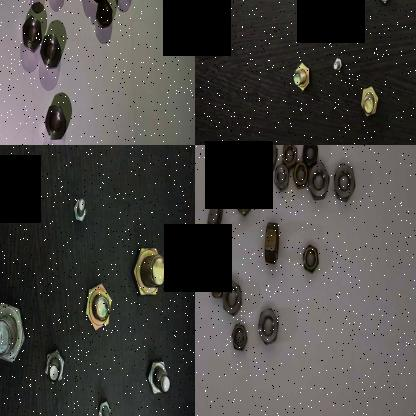Bolts: (132, 233, 168, 310), (81, 274, 112, 335), (0, 298, 27, 367), (41, 342, 67, 394), (144, 354, 173, 400), (290, 53, 312, 98), (68, 188, 91, 228), (358, 83, 378, 121), (92, 396, 114, 416), (330, 52, 343, 75), (375, 0, 395, 8)
NUTS: (331, 159, 357, 206), (42, 102, 68, 144), (254, 302, 278, 347), (305, 160, 331, 200), (218, 276, 242, 318), (262, 216, 280, 271), (203, 195, 223, 242), (19, 10, 38, 57), (39, 32, 61, 70), (252, 145, 280, 173), (93, 0, 117, 30), (233, 185, 252, 219), (300, 240, 319, 274), (290, 159, 310, 191), (271, 162, 291, 192), (229, 323, 248, 353), (278, 145, 298, 171), (298, 145, 318, 170), (208, 269, 224, 299)
